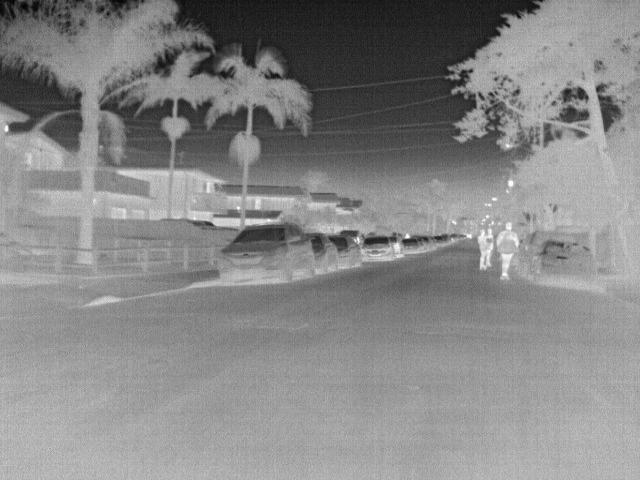car: (214, 222, 313, 282), (526, 239, 601, 290), (304, 228, 340, 276), (328, 235, 362, 270), (363, 236, 395, 262), (388, 235, 404, 257), (400, 239, 419, 254), (414, 236, 431, 252), (431, 235, 444, 246)
person: (496, 219, 520, 278), (476, 228, 489, 270), (485, 225, 493, 269), (402, 232, 411, 239)
